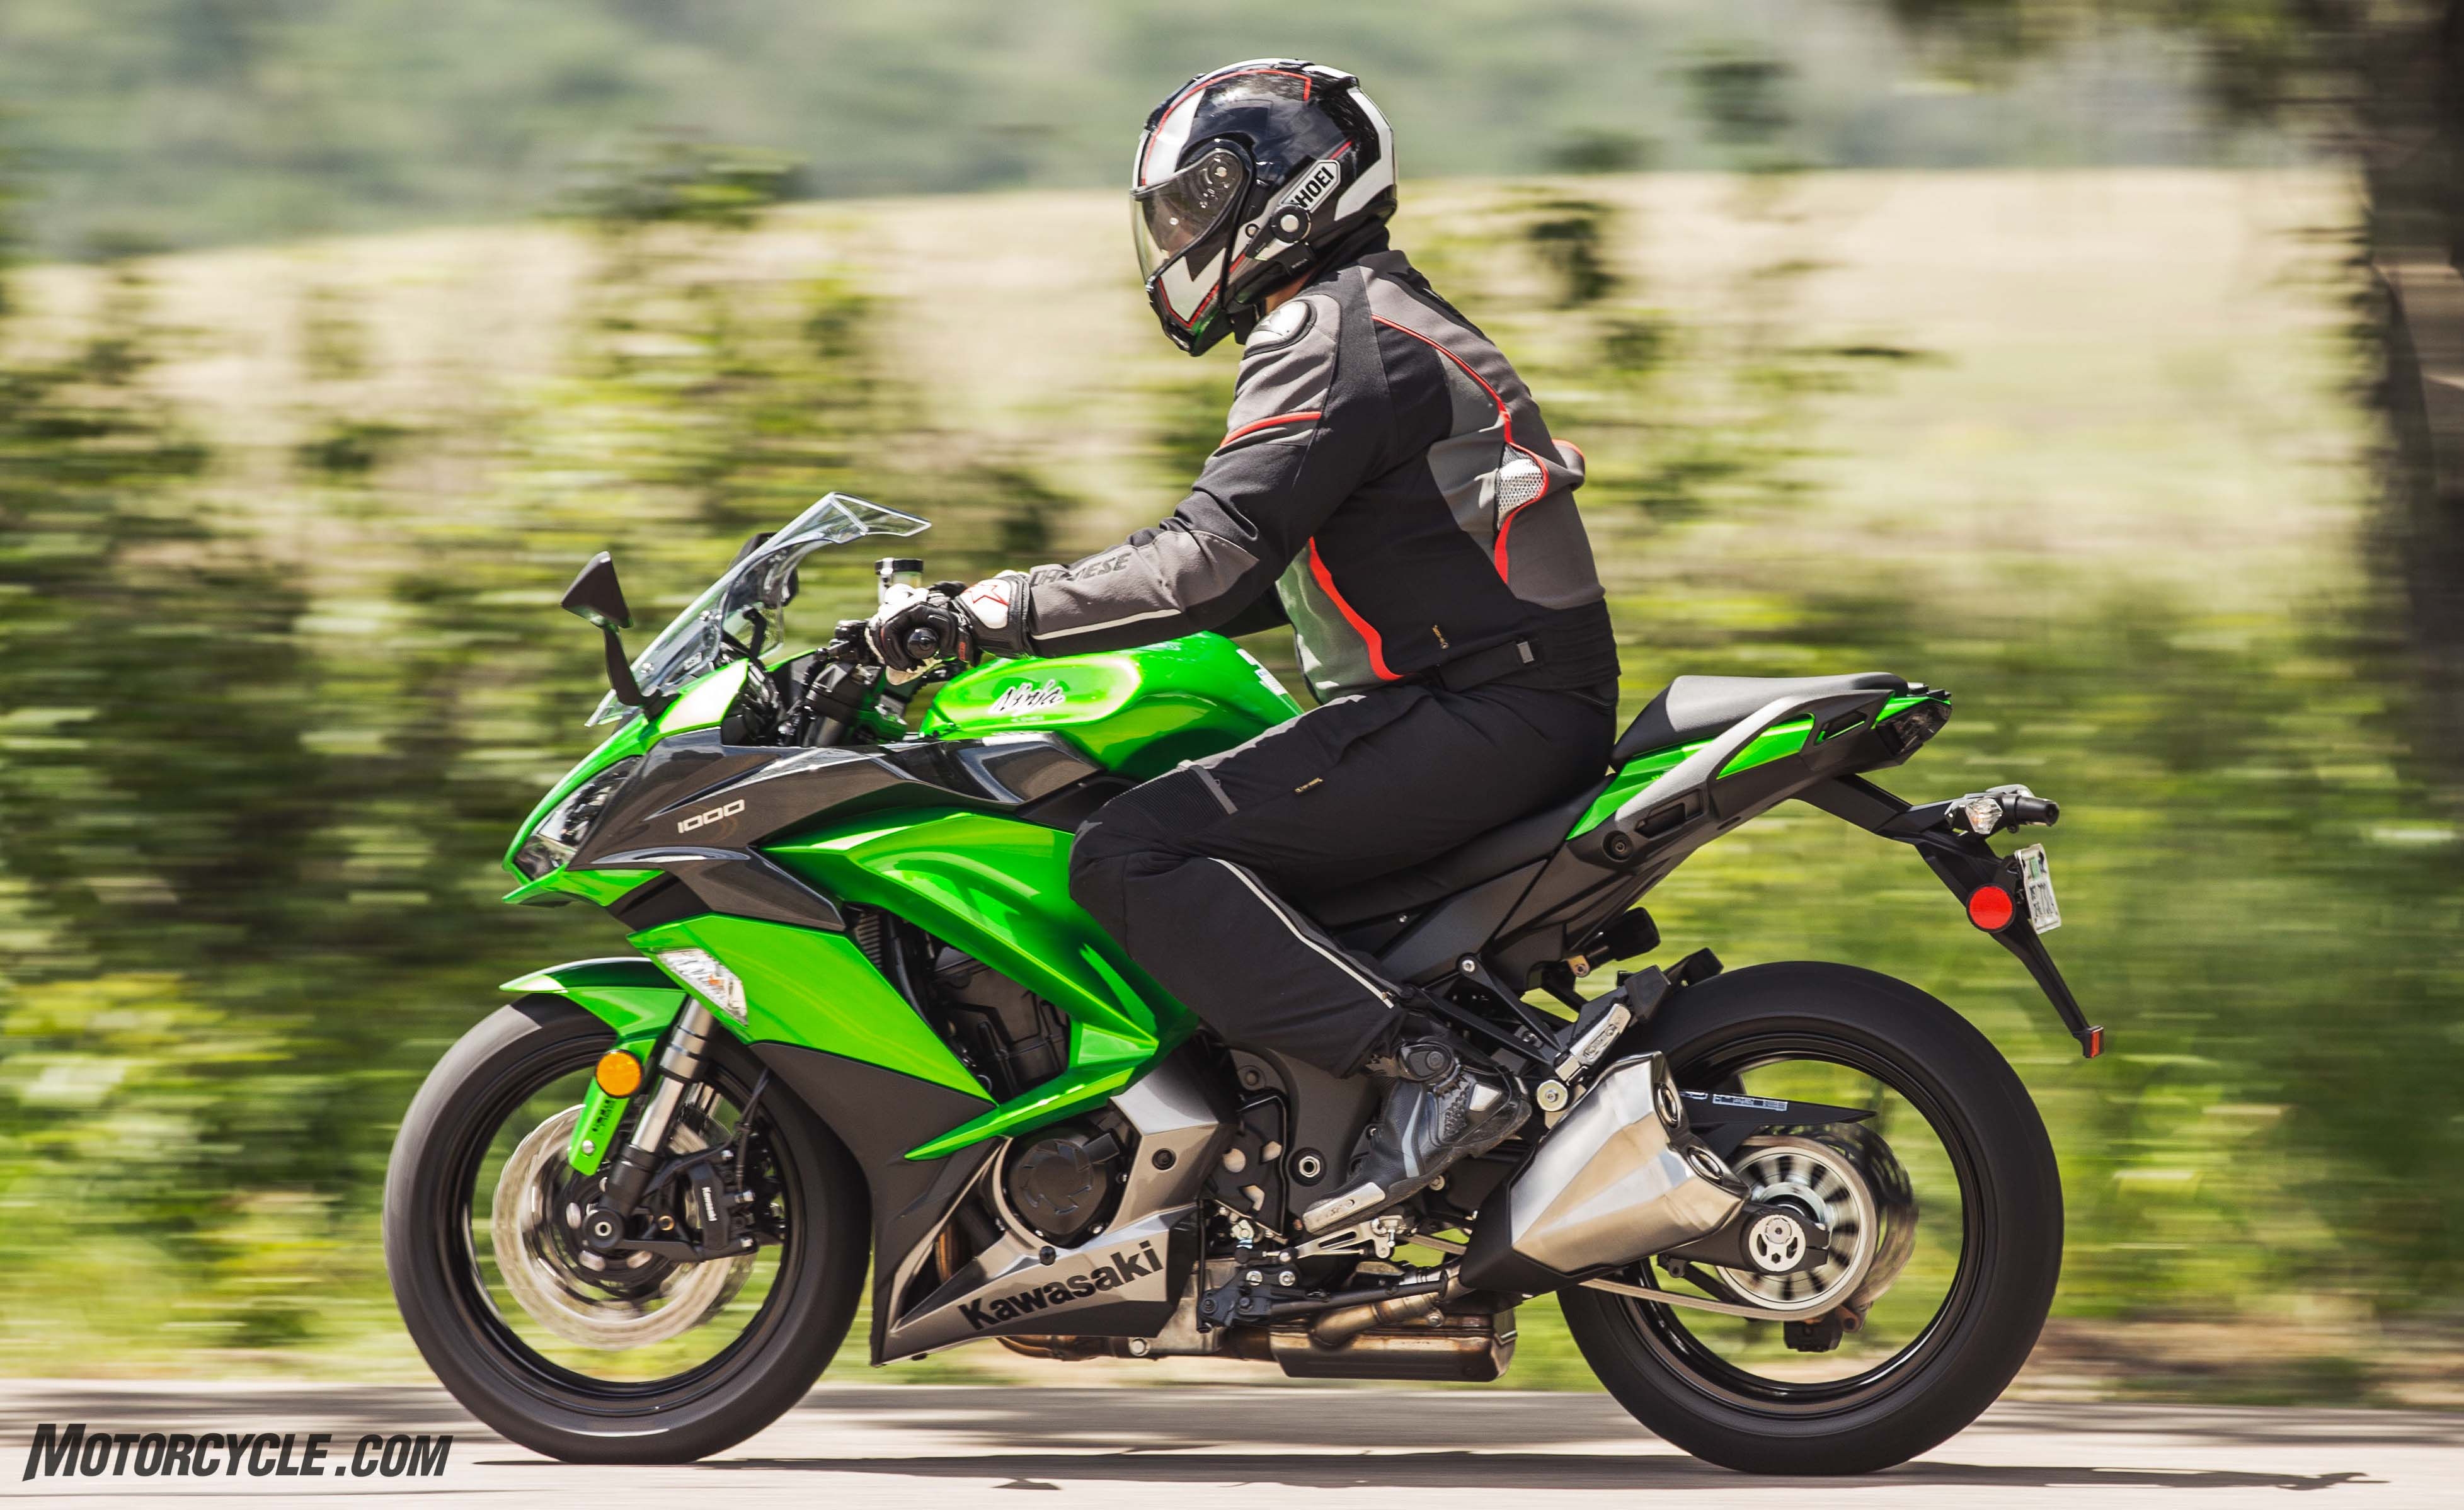motorcycle: (373, 503, 2098, 1487)
